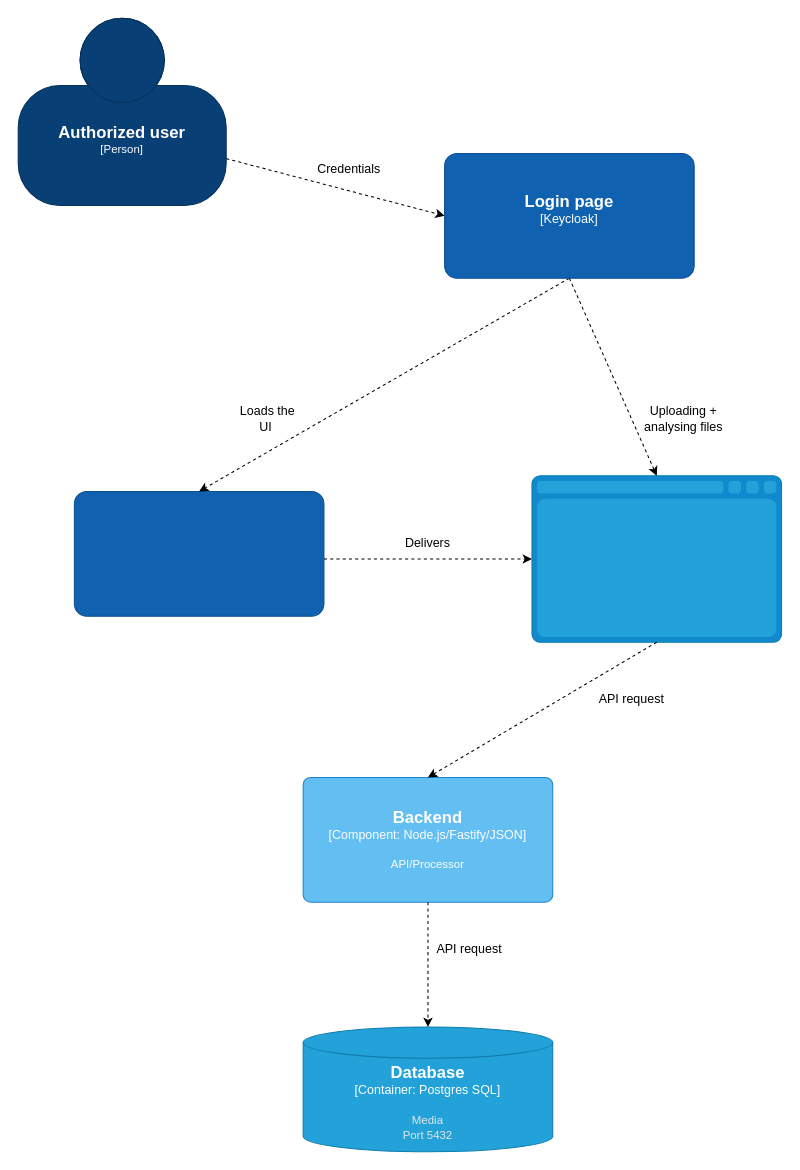
The diagram is 800 pixels wide and 1170 high, and some of its shapes have lost their labels. The shapes that lost their labels are listed below. From the top down, each one's box as (x1, y1, x2, y2) in pixels, then its label:
(73, 490, 324, 616): Static Files [HTML/CSS]
(531, 475, 782, 642): Frontend [Container: Vue 3 SPA]
